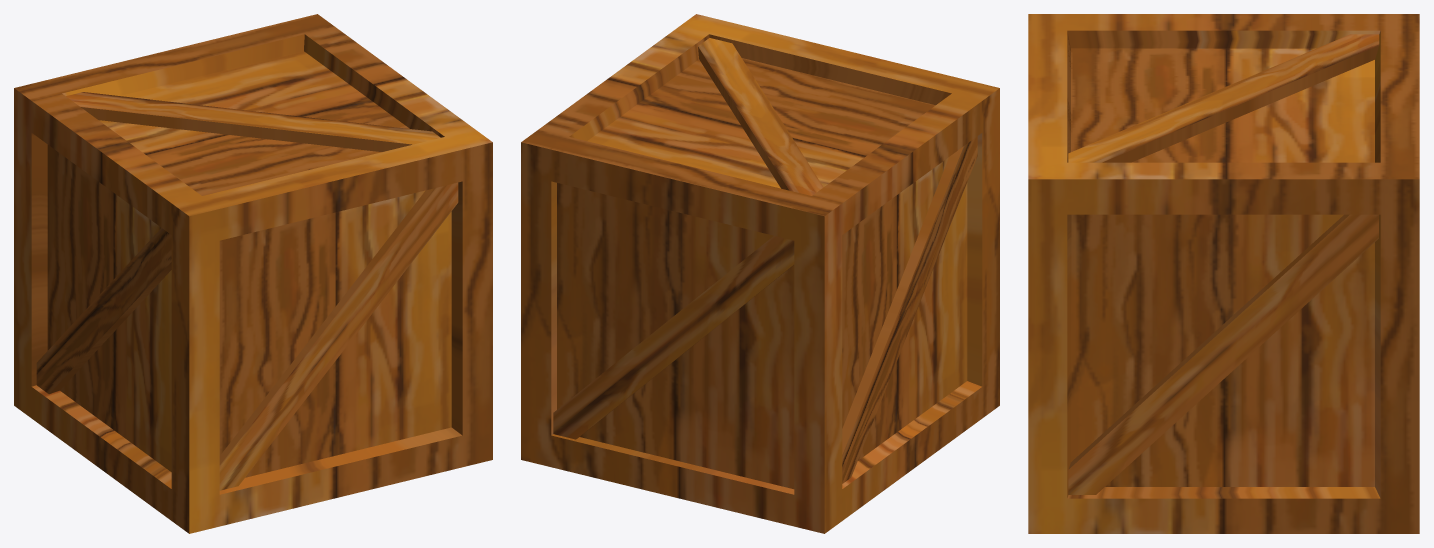
Rendered from box_destroyable.fbx.
The picture shows the model from 3 angles, left to right: view 1: azimuth 30°, elevation 25°; view 2: azimuth 150°, elevation 25°; view 3: azimuth 270°, elevation 25°; orthographic projection. The views are drawn at different scales.
Visible parts, largest first — view 1: Box_01.007, Box_01.009, Box_01, Box_01.008, Box_01.001, Box_01.006, Box_01.003; view 2: Box_01.007, Box_01.009, Box_01, Box_01.008, Box_01.002, Box_01.003, Box_01.006; view 3: Box_01.007, Box_01.009, Box_01, Box_01.004, Box_01.008, Box_01.006.
Part boxes in pixels (box(x1,y1,x2,y2)): Box_01.007: box(14, 14, 492, 240); Box_01.009: box(14, 247, 492, 533); Box_01: box(14, 88, 492, 374); Box_01.008: box(14, 385, 492, 533); Box_01.001: box(219, 182, 458, 490); Box_01.006: box(66, 92, 440, 151); Box_01.003: box(36, 228, 171, 394); Box_01.007: box(521, 14, 999, 240); Box_01.009: box(521, 247, 999, 533); Box_01: box(521, 88, 999, 374); Box_01.008: box(521, 381, 999, 533); Box_01.002: box(553, 236, 794, 439); Box_01.003: box(842, 136, 977, 483); Box_01.006: box(698, 38, 823, 195); Box_01.007: box(1028, 14, 1419, 214); Box_01.009: box(1028, 349, 1419, 533); Box_01: box(1028, 179, 1419, 356); Box_01.004: box(1068, 214, 1378, 494); Box_01.008: box(1029, 487, 1418, 533); Box_01.006: box(1068, 34, 1379, 162).
Bounding box in the file's own units: 62.79 × 62.79 × 62.79.
